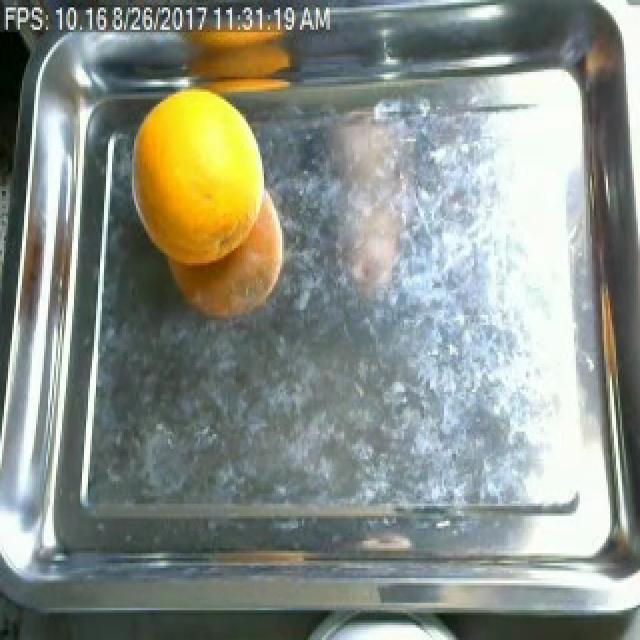Fruit: (126, 82, 280, 327)
